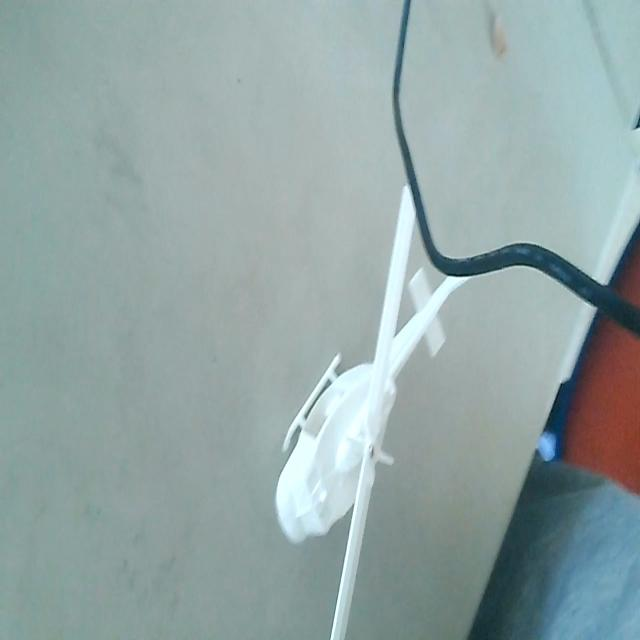Helicopter: (268, 186, 447, 640)
